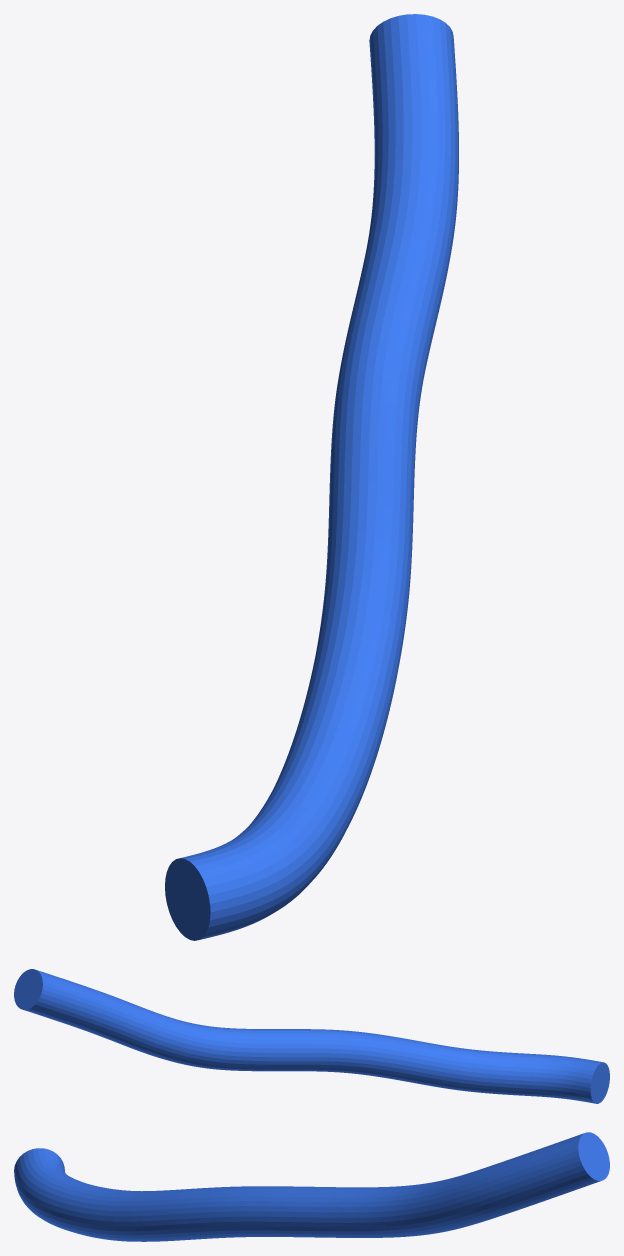
Rendered from faces11 - linechin.glb.
3 renders of one model, top to bottom at view 1: azimuth 30°, elevation 25°; view 2: azimuth 150°, elevation 25°; view 3: azimuth 270°, elevation 25°, orthographic. The views are drawn at different scales.
Visible parts, largest first — view 1: Tube; view 2: Tube; view 3: Tube.
Boxes of the visible parts, <box> form: Tube: <box>165,14,458,940</box>; Tube: <box>14,969,609,1103</box>; Tube: <box>14,1132,609,1241</box>.
Bounding box in the file's own units: 0.4027 × 0.2299 × 0.479.
